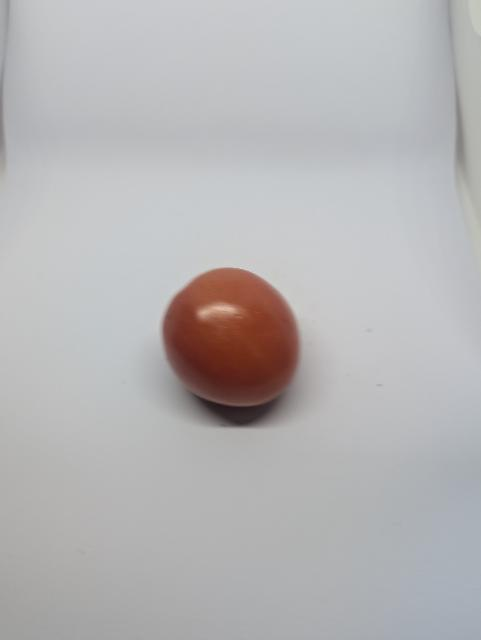red: (154, 258, 307, 425)
